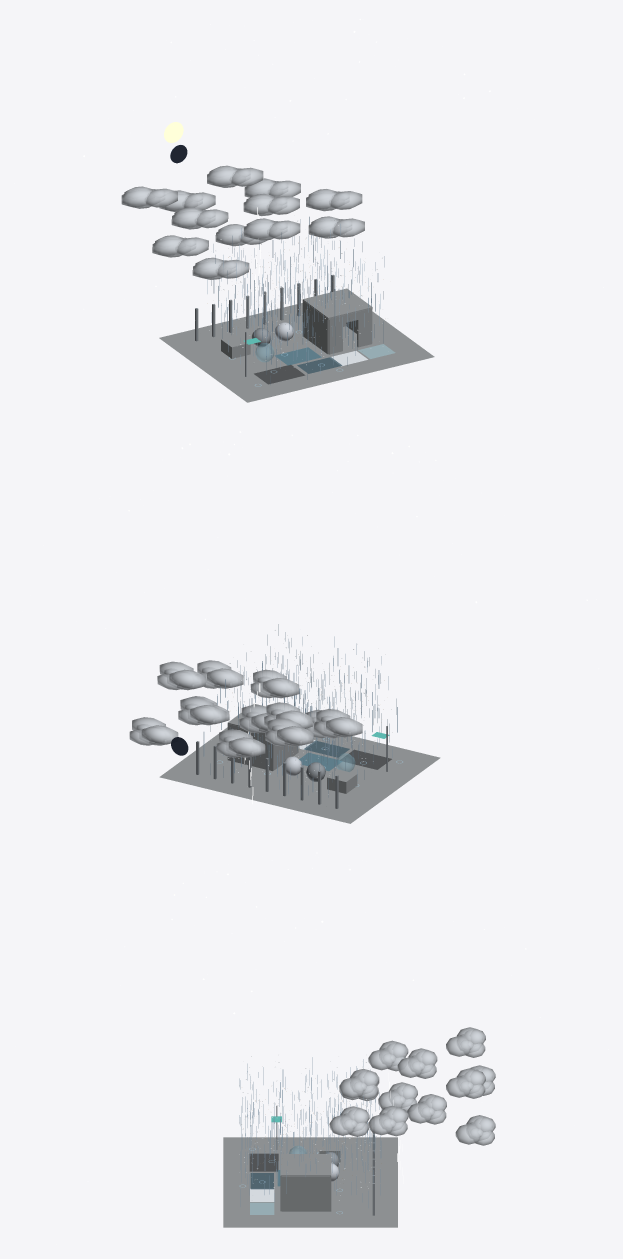
The model's file is p63_environment_stage.glb.
3 views of the same model, one above another, from view 1: azimuth 30°, elevation 25°; view 2: azimuth 150°, elevation 25°; view 3: azimuth 270°, elevation 25° (orthographic). The views are drawn at different scales.
Parts seen in each view (by area): view 1: P63_STAGE_GROUND, P63_ROOF, P63_CLOUD_1, P63_CLOUD_9, P63_CLOUD_10, P63_CLOUD_0, P63_CLOUD_11, P63_CLOUD_4, P63_CLOUD_3, P63_CLOUD_5, P63_CLOUD_7, P63_ROOM_LEFT (+7 smaller); view 2: P63_STAGE_GROUND, P63_CLOUD_7, P63_CLOUD_5, P63_CLOUD_6, P63_CLOUD_0, P63_CLOUD_10, P63_CLOUD_4, P63_CLOUD_8, P63_CLOUD_11, P63_CLOUD_1, P63_ROOM_BACK, P63_CLOUD_2 (+2 smaller); view 3: P63_STAGE_GROUND, P63_ROOM_RIGHT, P63_ROOF, P63_CLOUD_1, P63_CLOUD_8, P63_CLOUD_10, P63_CLOUD_11, P63_CLOUD_7, P63_CLOUD_5, P63_CLOUD_3, P63_CLOUD_4, P63_CLOUD_0 (+2 smaller).
Boxes of the visible parts, x1=… form: P63_STAGE_GROUND: x1=159, y1=303, x2=434, y2=402; P63_ROOF: x1=302, y1=288, x2=372, y2=319; P63_CLOUD_1: x1=171, y1=207, x2=228, y2=229; P63_CLOUD_9: x1=192, y1=257, x2=249, y2=279; P63_CLOUD_10: x1=244, y1=218, x2=300, y2=240; P63_CLOUD_0: x1=152, y1=235, x2=208, y2=257; P63_CLOUD_11: x1=308, y1=216, x2=364, y2=238; P63_CLOUD_4: x1=306, y1=189, x2=362, y2=211; P63_CLOUD_3: x1=243, y1=193, x2=299, y2=216; P63_CLOUD_5: x1=121, y1=186, x2=177, y2=208; P63_CLOUD_7: x1=207, y1=165, x2=263, y2=187; P63_ROOM_LEFT: x1=303, y1=301, x2=328, y2=354; P63_STAGE_GROUND: x1=159, y1=727, x2=440, y2=823; P63_CLOUD_7: x1=178, y1=696, x2=226, y2=725; P63_CLOUD_5: x1=265, y1=718, x2=313, y2=746; P63_CLOUD_6: x1=216, y1=729, x2=265, y2=757; P63_CLOUD_0: x1=314, y1=709, x2=362, y2=737; P63_CLOUD_10: x1=250, y1=669, x2=299, y2=698; P63_CLOUD_4: x1=157, y1=661, x2=205, y2=690; P63_CLOUD_8: x1=129, y1=717, x2=178, y2=745; P63_CLOUD_11: x1=197, y1=660, x2=243, y2=688; P63_CLOUD_1: x1=264, y1=702, x2=312, y2=728; P63_ROOM_BACK: x1=227, y1=724, x2=273, y2=771; P63_CLOUD_2: x1=239, y1=704, x2=268, y2=733; P63_STAGE_GROUND: x1=223, y1=1137, x2=397, y2=1227; P63_ROOM_RIGHT: x1=281, y1=1176, x2=329, y2=1211; P63_ROOF: x1=280, y1=1154, x2=330, y2=1177; P63_CLOUD_1: x1=397, y1=1048, x2=437, y2=1078; P63_CLOUD_8: x1=455, y1=1115, x2=495, y2=1145; P63_CLOUD_10: x1=339, y1=1068, x2=379, y2=1099; P63_CLOUD_11: x1=329, y1=1106, x2=369, y2=1136; P63_CLOUD_7: x1=446, y1=1068, x2=485, y2=1098; P63_CLOUD_5: x1=446, y1=1027, x2=485, y2=1057; P63_CLOUD_3: x1=407, y1=1094, x2=446, y2=1124; P63_CLOUD_4: x1=368, y1=1105, x2=408, y2=1136; P63_CLOUD_0: x1=368, y1=1040, x2=408, y2=1071.
Bounding box in the file's own units: 60.95 × 34.02 × 61.37.
Materials: 22 (1 with a texture image).
